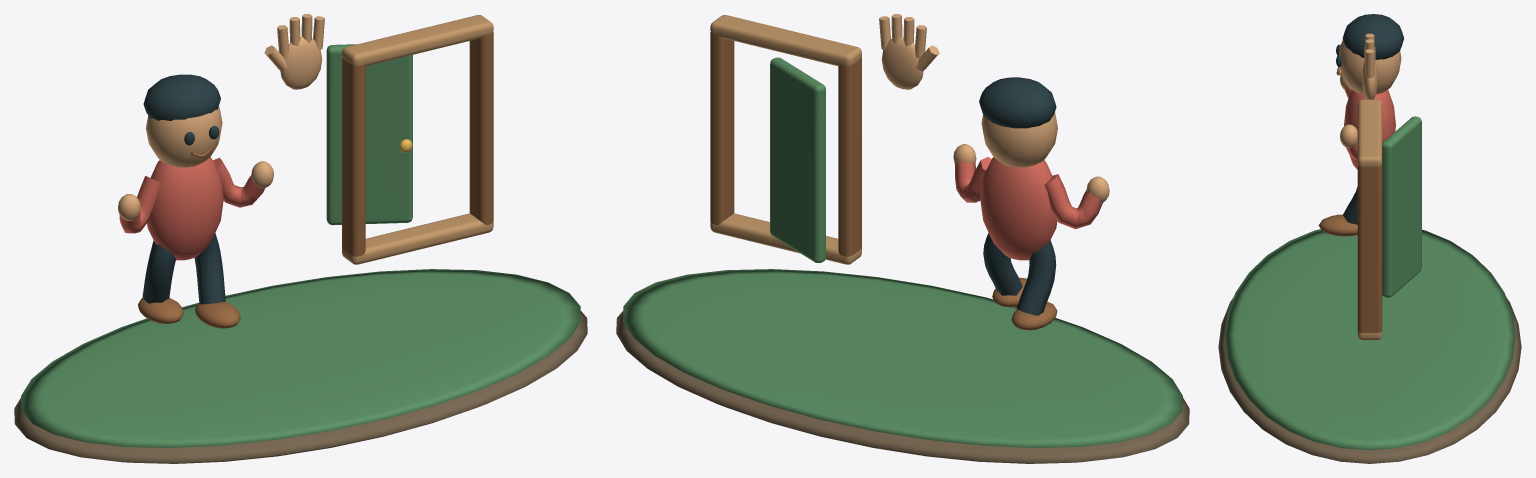
The model's file is complete-first-joyful-welcome.glb.
3 renders of one model, left to right at view 1: azimuth 30°, elevation 25°; view 2: azimuth 150°, elevation 25°; view 3: azimuth 270°, elevation 25°, orthographic. The views are drawn at different scales.
Parts seen in each view (by area): view 1: complete-first-joyful-welcome_surface_01, complete-first-joyful-welcome_surface_04, complete-first-joyful-welcome_surface_00, complete-first-joyful-welcome_surface_05, complete-first-joyful-welcome_surface_02, complete-first-joyful-welcome_surface_06, complete-first-joyful-welcome_surface_03; view 2: complete-first-joyful-welcome_surface_01, complete-first-joyful-welcome_surface_04, complete-first-joyful-welcome_surface_00, complete-first-joyful-welcome_surface_05, complete-first-joyful-welcome_surface_02, complete-first-joyful-welcome_surface_03, complete-first-joyful-welcome_surface_06; view 3: complete-first-joyful-welcome_surface_01, complete-first-joyful-welcome_surface_00, complete-first-joyful-welcome_surface_04, complete-first-joyful-welcome_surface_02, complete-first-joyful-welcome_surface_03, complete-first-joyful-welcome_surface_06, complete-first-joyful-welcome_surface_05.
Part boxes in pixels (box(x1,y1,x2,y2)): complete-first-joyful-welcome_surface_01: box(21, 44, 580, 447); complete-first-joyful-welcome_surface_04: box(138, 32, 493, 328); complete-first-joyful-welcome_surface_00: box(14, 311, 587, 463); complete-first-joyful-welcome_surface_05: box(119, 157, 264, 260); complete-first-joyful-welcome_surface_02: box(118, 14, 324, 220); complete-first-joyful-welcome_surface_06: box(342, 15, 493, 264); complete-first-joyful-welcome_surface_03: box(142, 74, 225, 304); complete-first-joyful-welcome_surface_01: box(623, 57, 1182, 447); complete-first-joyful-welcome_surface_04: box(710, 32, 1057, 330); complete-first-joyful-welcome_surface_00: box(616, 311, 1189, 463); complete-first-joyful-welcome_surface_05: box(954, 157, 1103, 260); complete-first-joyful-welcome_surface_02: box(879, 14, 1109, 202); complete-first-joyful-welcome_surface_03: box(979, 77, 1056, 315); complete-first-joyful-welcome_surface_06: box(710, 15, 861, 264); complete-first-joyful-welcome_surface_01: box(1224, 116, 1515, 450); complete-first-joyful-welcome_surface_00: box(1218, 297, 1521, 463); complete-first-joyful-welcome_surface_04: box(1318, 67, 1382, 332); complete-first-joyful-welcome_surface_02: box(1339, 33, 1401, 148); complete-first-joyful-welcome_surface_03: box(1336, 14, 1403, 224); complete-first-joyful-welcome_surface_06: box(1357, 99, 1382, 340); complete-first-joyful-welcome_surface_05: box(1344, 87, 1395, 169).
Size of the model in its own units: 4.56 by 2.94 by 2.5.
